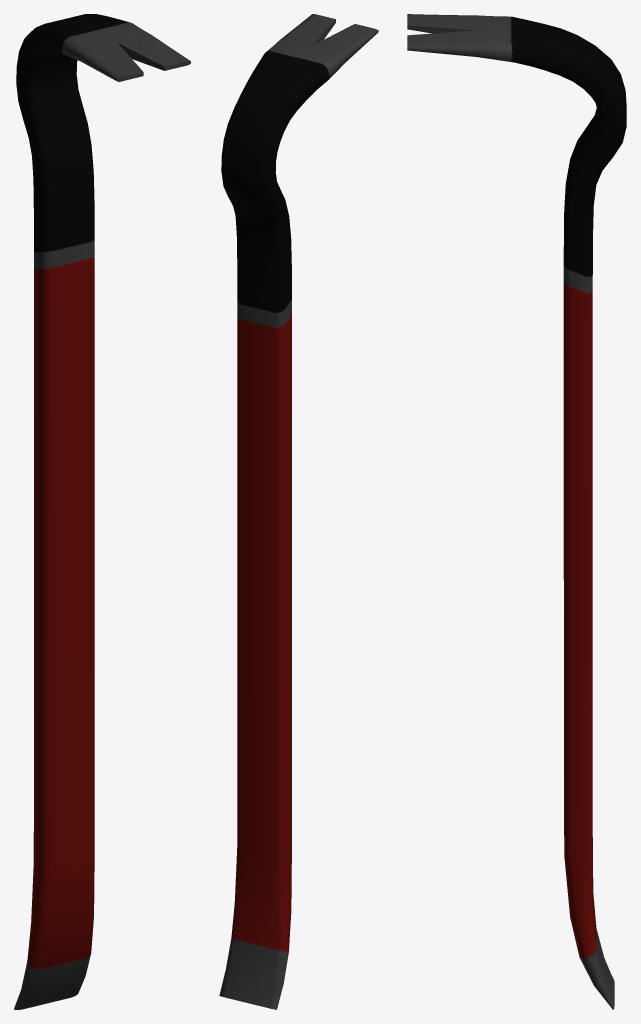
Rendered from crowbar_prop.gltf.
The picture shows the model from 3 angles, left to right: view 1: azimuth 30°, elevation 25°; view 2: azimuth 150°, elevation 25°; view 3: azimuth 270°, elevation 25°; orthographic projection. The views are drawn at different scales.
Parts seen in each view (by area): view 1: CrowbarProp; view 2: CrowbarProp; view 3: CrowbarProp.
Part boxes in pixels (x1,y1,x2,y2): CrowbarProp: (14,14,190,1009); CrowbarProp: (219,14,378,1009); CrowbarProp: (407,14,626,1009).
Size of the model in its own units: 0.14 by 1.84 by 0.3785.
Materials: 1 (1 with a texture image).
